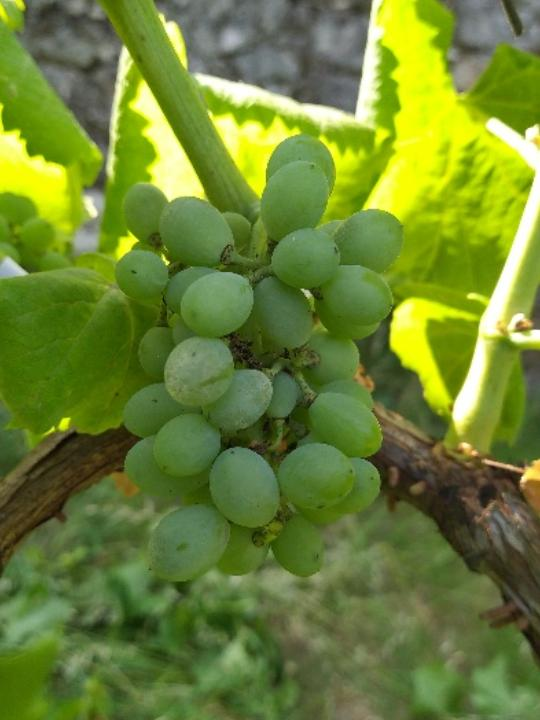grape: (113, 129, 412, 587)
